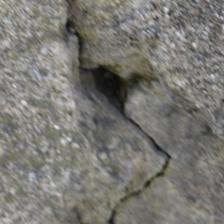Crack: (45, 12, 125, 124), (49, 33, 104, 144)
